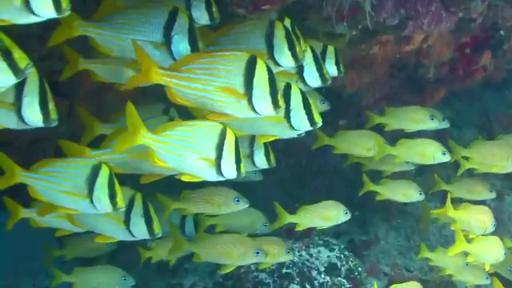Fish: (123, 44, 283, 119), (113, 103, 244, 181), (48, 4, 201, 59), (0, 153, 125, 215), (220, 84, 322, 141), (205, 17, 306, 71), (57, 140, 179, 183), (69, 187, 162, 243), (170, 231, 267, 273), (0, 69, 58, 129), (4, 197, 86, 236), (93, 0, 220, 25), (60, 45, 139, 83), (418, 244, 488, 284), (431, 193, 495, 235), (157, 186, 249, 215), (272, 200, 351, 230), (448, 230, 506, 270), (449, 140, 511, 175), (0, 32, 35, 91), (312, 130, 388, 156), (198, 208, 271, 234), (359, 174, 424, 203), (51, 265, 135, 287), (48, 233, 116, 260), (366, 106, 439, 131), (0, 0, 71, 25), (77, 108, 126, 144), (385, 139, 451, 164), (292, 45, 331, 87), (431, 175, 496, 200), (449, 140, 511, 165), (344, 155, 415, 175), (306, 40, 343, 76), (253, 236, 294, 268), (417, 244, 467, 270), (239, 136, 275, 172), (89, 36, 136, 59), (444, 263, 490, 286), (137, 236, 174, 263), (456, 158, 511, 175), (275, 71, 313, 91), (305, 90, 331, 112), (425, 108, 450, 130), (491, 253, 511, 279), (232, 171, 263, 182), (389, 281, 423, 287), (492, 276, 504, 287)
